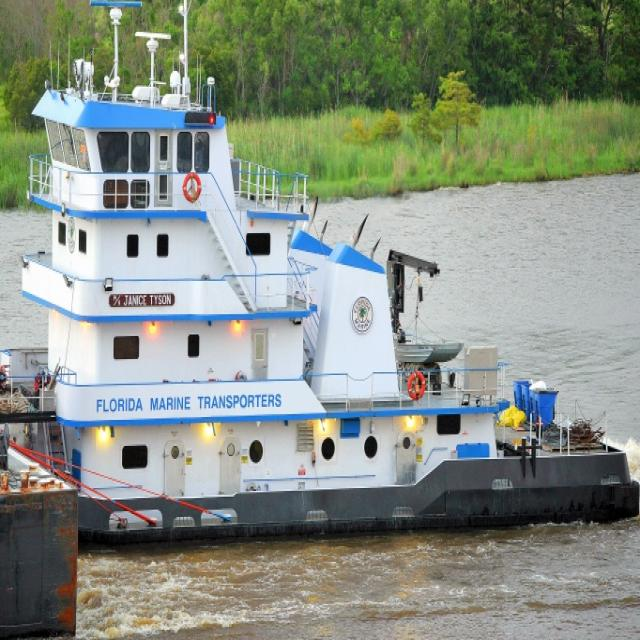tugboat: (1, 61, 640, 543)
